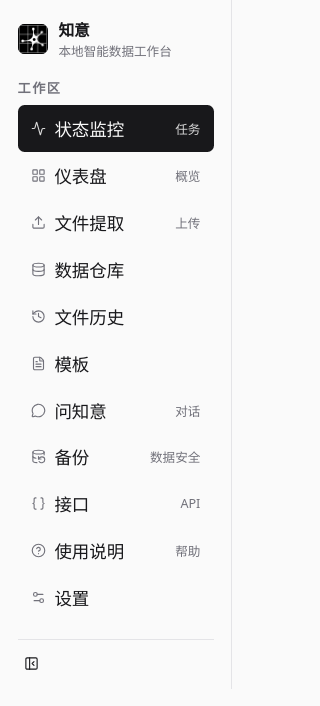
Test: Sidebar › collapses without hiding the navigation controls
Click the button named "收起侧边栏".
click(31, 663)  # box [18, 655, 44, 672]
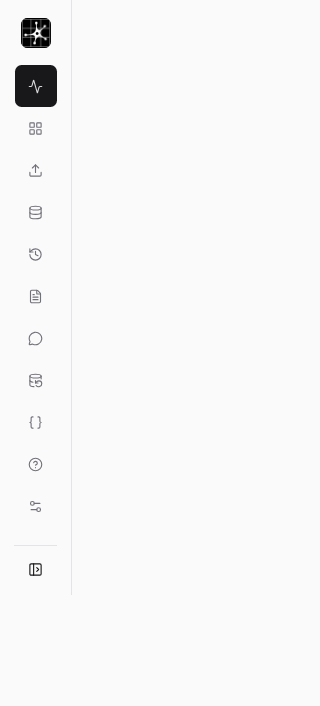
Expected: the button named "状态监控" is shown, [14, 65, 56, 107]
Expected: the button named "展开侧边栏" is shown, [22, 561, 49, 578]
